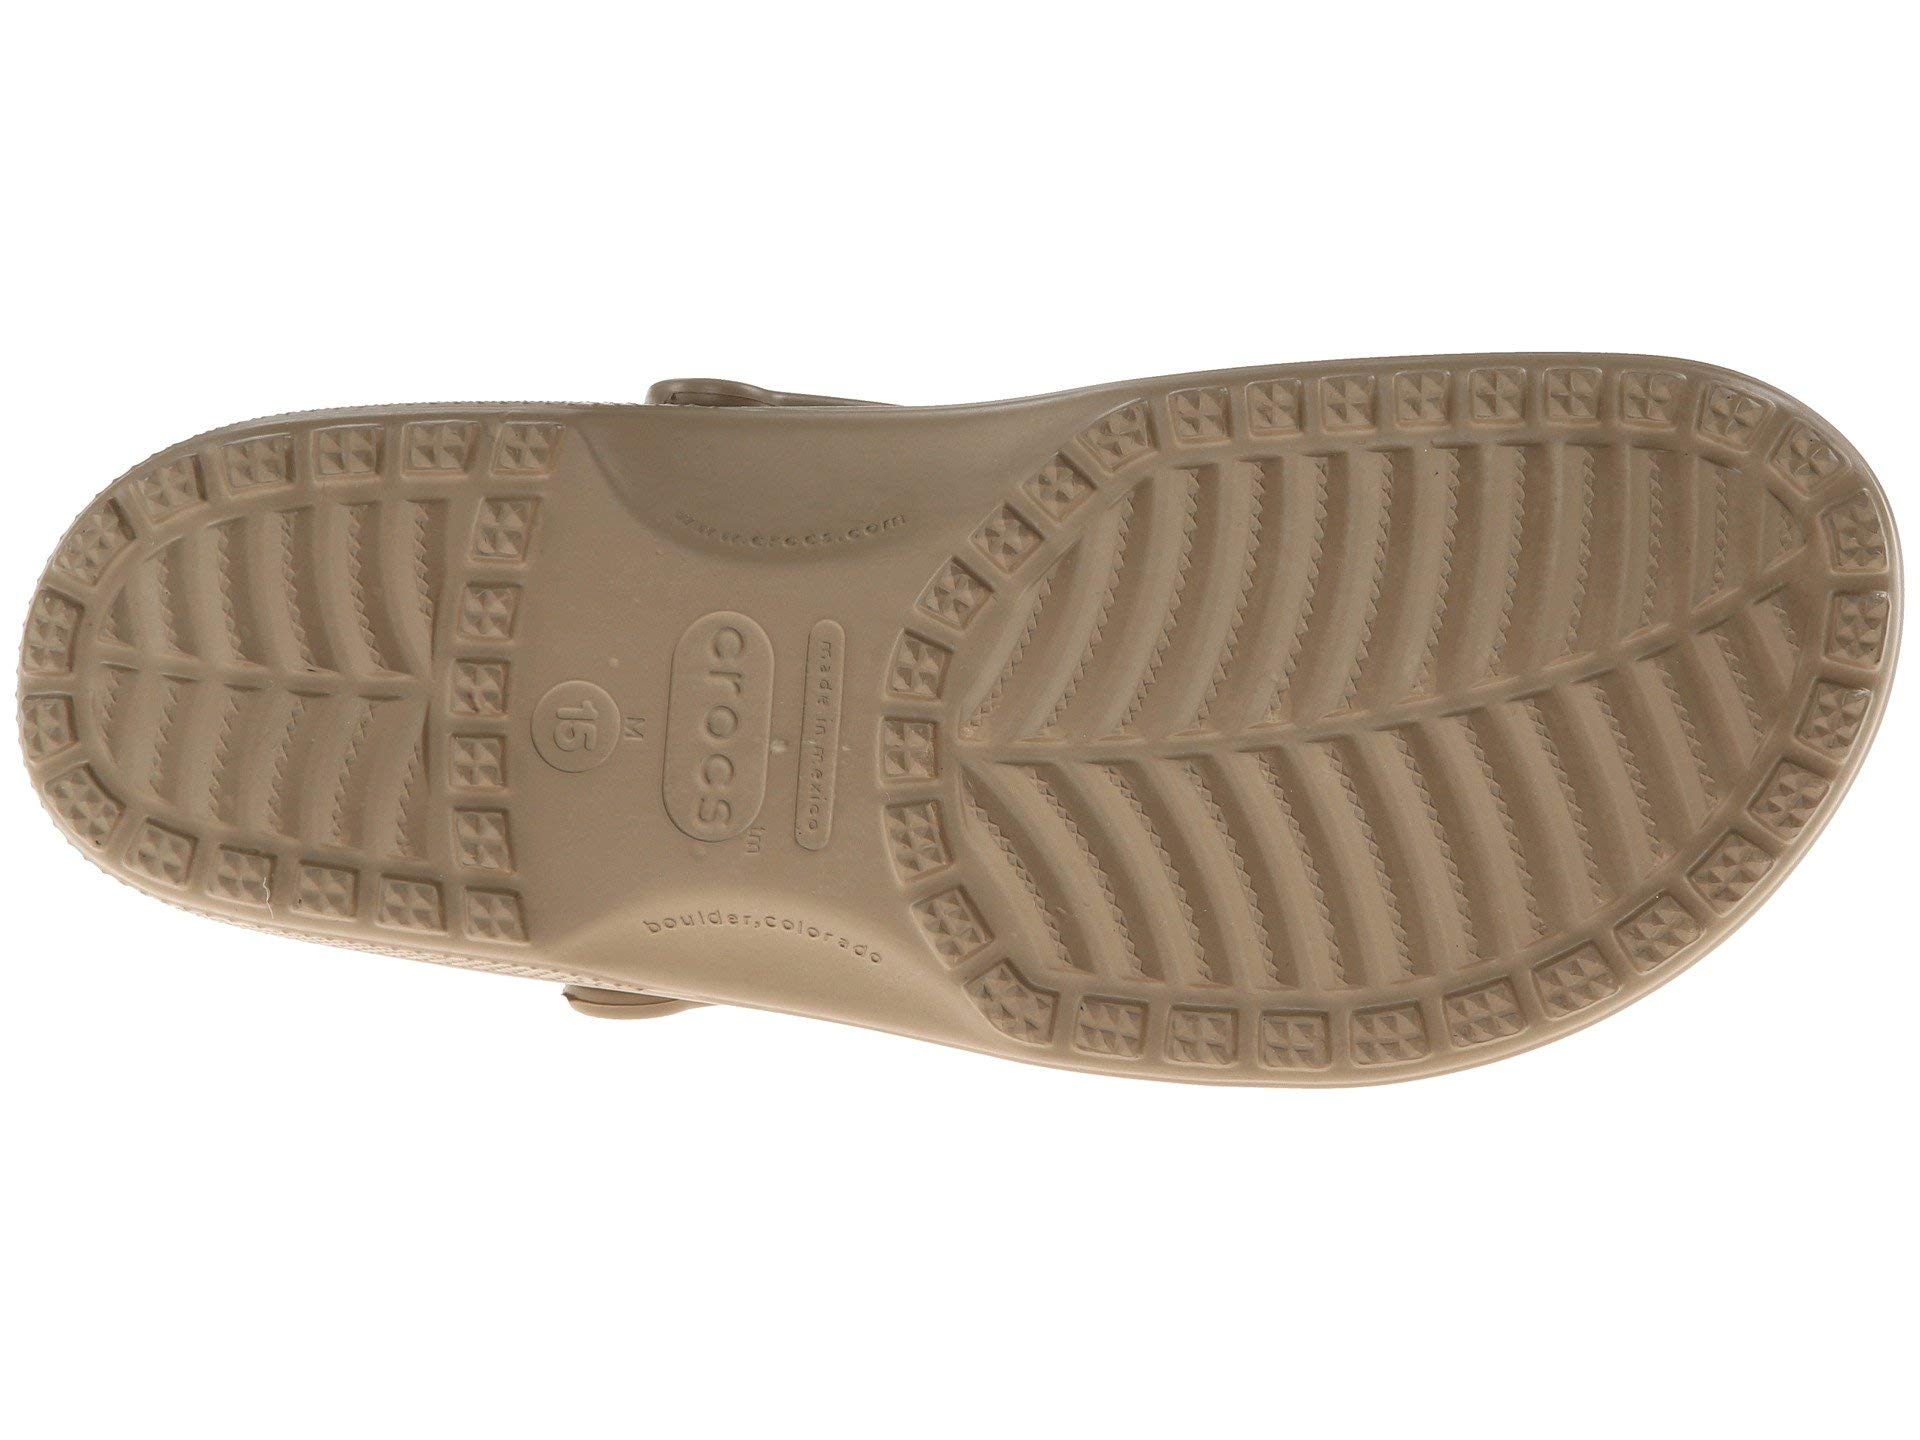circle: (649, 579, 874, 885), (509, 663, 655, 799)
line: (194, 436, 509, 738), (1305, 740, 1584, 1072), (957, 759, 1249, 1072), (1395, 357, 1642, 622), (1152, 371, 1389, 613), (1696, 366, 1918, 614)
quad: (194, 436, 509, 738), (1305, 740, 1584, 1072), (957, 759, 1249, 1072), (1395, 357, 1642, 622), (1152, 371, 1389, 613), (1696, 366, 1918, 614)
text: (649, 579, 874, 885), (509, 663, 655, 799)
triangle: (1696, 366, 1918, 614)
